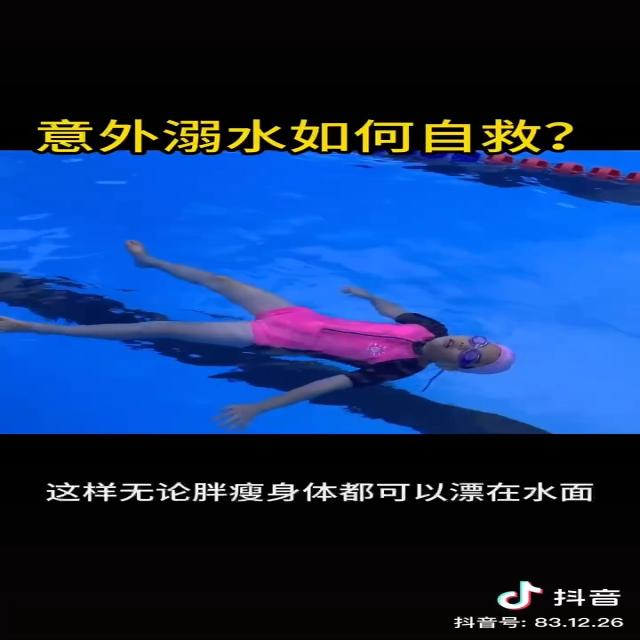Drowning: (3, 238, 518, 430)
